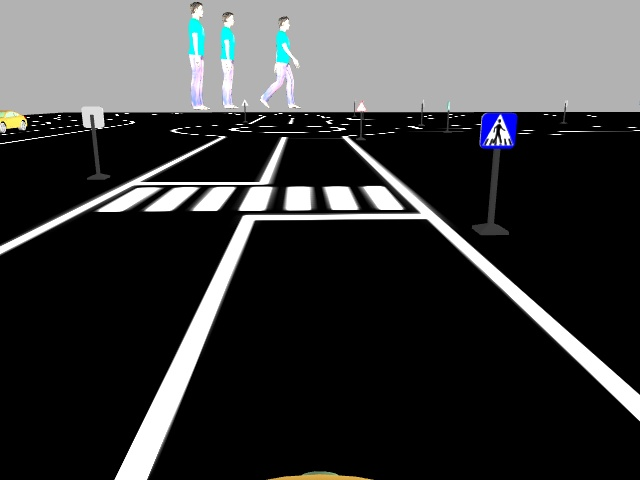Crosswalk: (476, 112, 518, 149)
